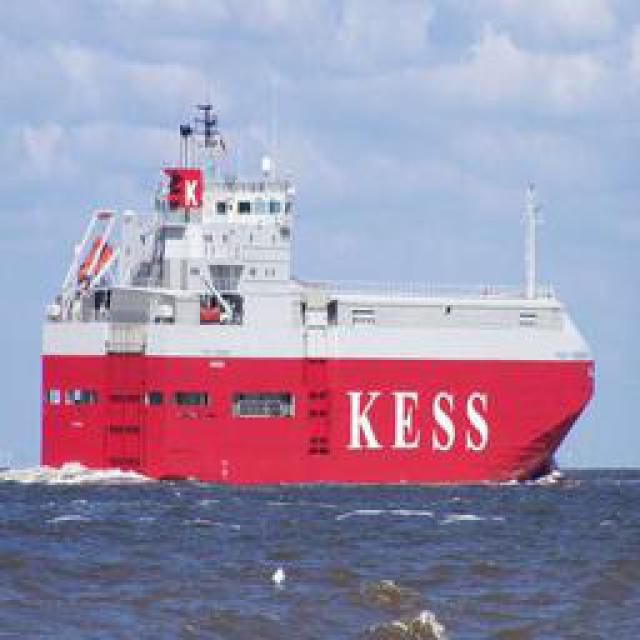Ship: (34, 74, 609, 479)
